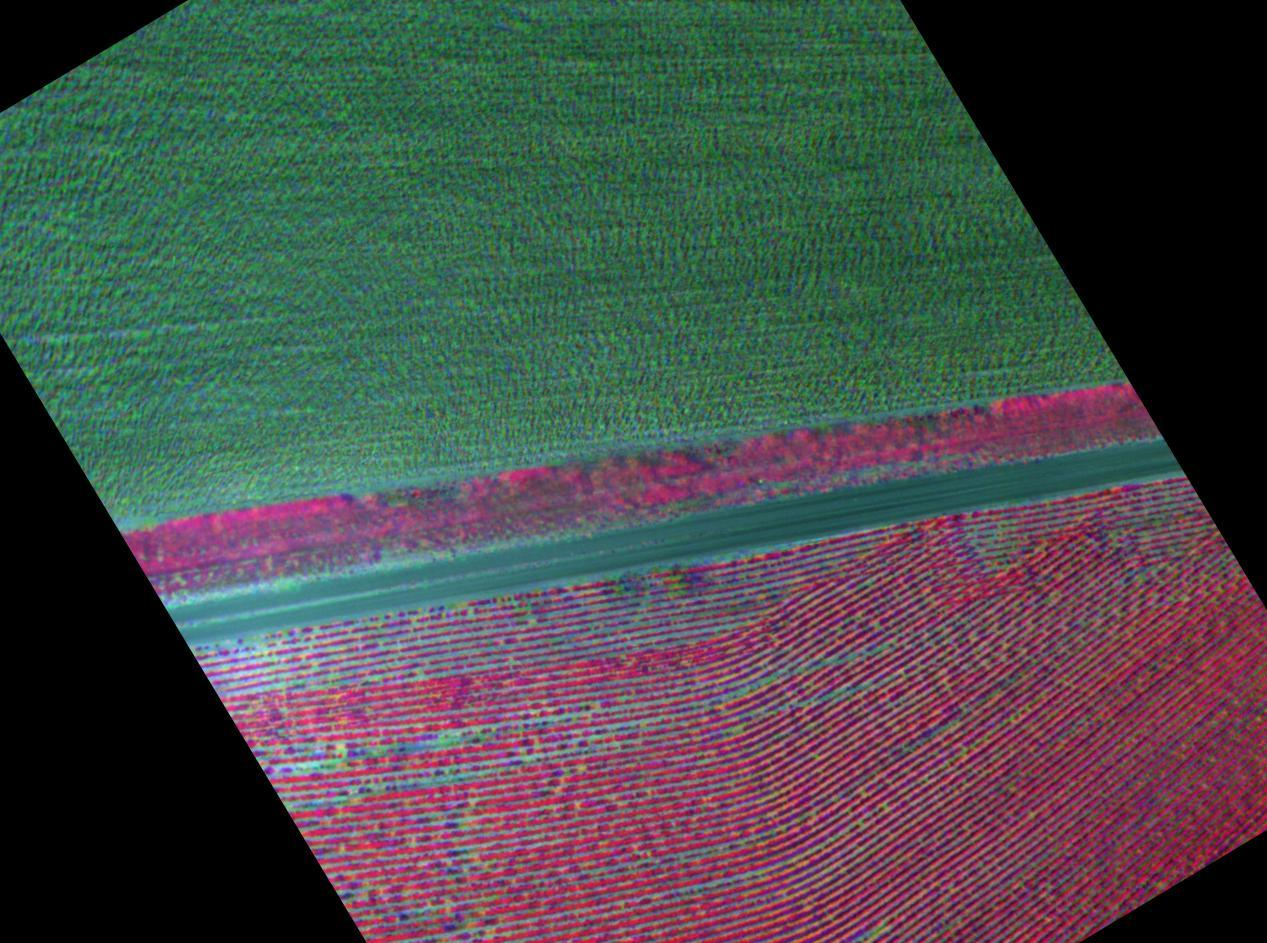dc: (338, 749, 342, 753), (530, 616, 535, 619), (419, 675, 423, 678), (307, 763, 310, 767), (981, 553, 984, 556), (860, 790, 863, 793), (859, 821, 862, 824), (873, 930, 876, 933)
